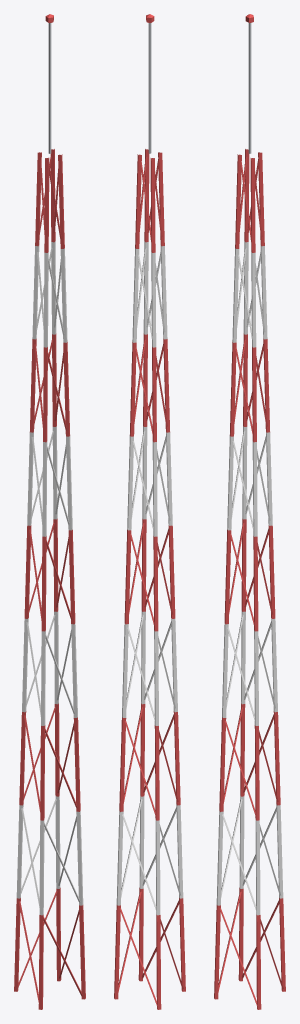
The model's file is sadamine_radio_mast.glb.
3 views of the same model, side by side, from view 1: azimuth 30°, elevation 25°; view 2: azimuth 150°, elevation 25°; view 3: azimuth 330°, elevation 25° (orthographic).
Parts seen in each view (by area): view 1: sadamine_radio_mast; view 2: sadamine_radio_mast; view 3: sadamine_radio_mast.
Part boxes in pixels (<box>): sadamine_radio_mast: <box>14,14,85,1009</box>; sadamine_radio_mast: <box>114,14,185,1009</box>; sadamine_radio_mast: <box>214,14,285,1009</box>.
Size of the model in its own units: 2.64 by 52.47 by 2.64.
